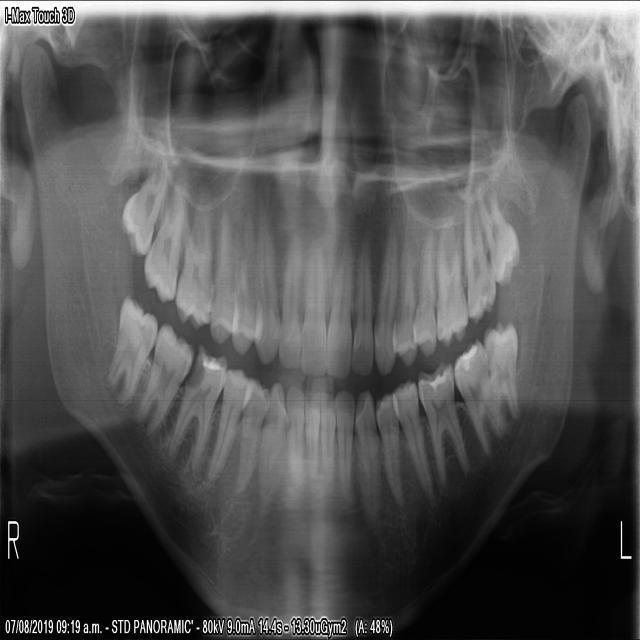LCD: (354, 388, 385, 522)
LCU: (375, 229, 398, 379)
LID: (334, 385, 355, 497), (320, 388, 336, 497)
LIU: (325, 230, 353, 379), (353, 237, 375, 376)
LMD: (447, 333, 508, 458), (418, 363, 471, 487), (485, 326, 519, 413)
LMU: (477, 191, 522, 297), (433, 219, 469, 351), (463, 208, 497, 329)
LPMD: (394, 380, 437, 501), (376, 388, 407, 504)
LPMU: (393, 227, 419, 365), (414, 222, 438, 355)
RCD: (255, 382, 287, 522)
RCU: (254, 196, 280, 366)
RID: (285, 385, 304, 516), (305, 385, 322, 502)
RIU: (300, 207, 327, 380), (280, 208, 306, 372)
RMD: (164, 343, 233, 482), (133, 316, 197, 441), (104, 287, 162, 410)
RMU: (141, 172, 191, 310), (174, 180, 218, 335), (113, 157, 174, 266)
RPMD: (206, 369, 250, 479), (235, 372, 271, 501)
RPMU: (233, 193, 255, 362), (210, 194, 234, 341)
